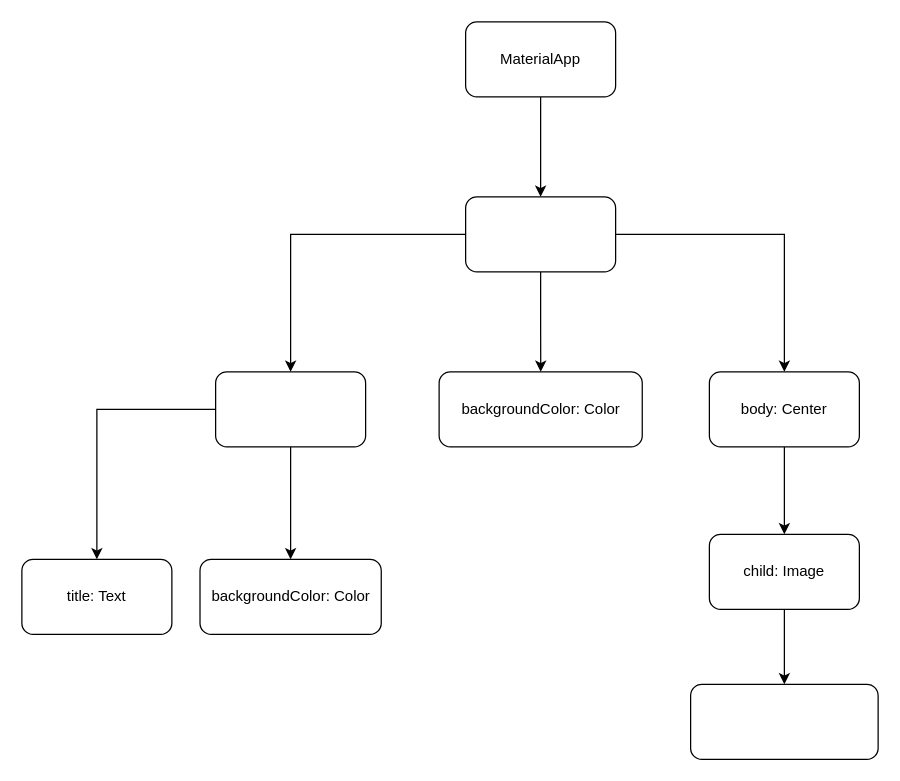
This 900x781 diagram has some shape labels left out. The shapes that lost their labels are listed below. From the top down, each one's centre as x and y in pixels, then its label:
At point 540,234: "home: Scaffold".
At point 290,409: "appBar: AppBar".
At point 783,721: "image: NetworkImage".
